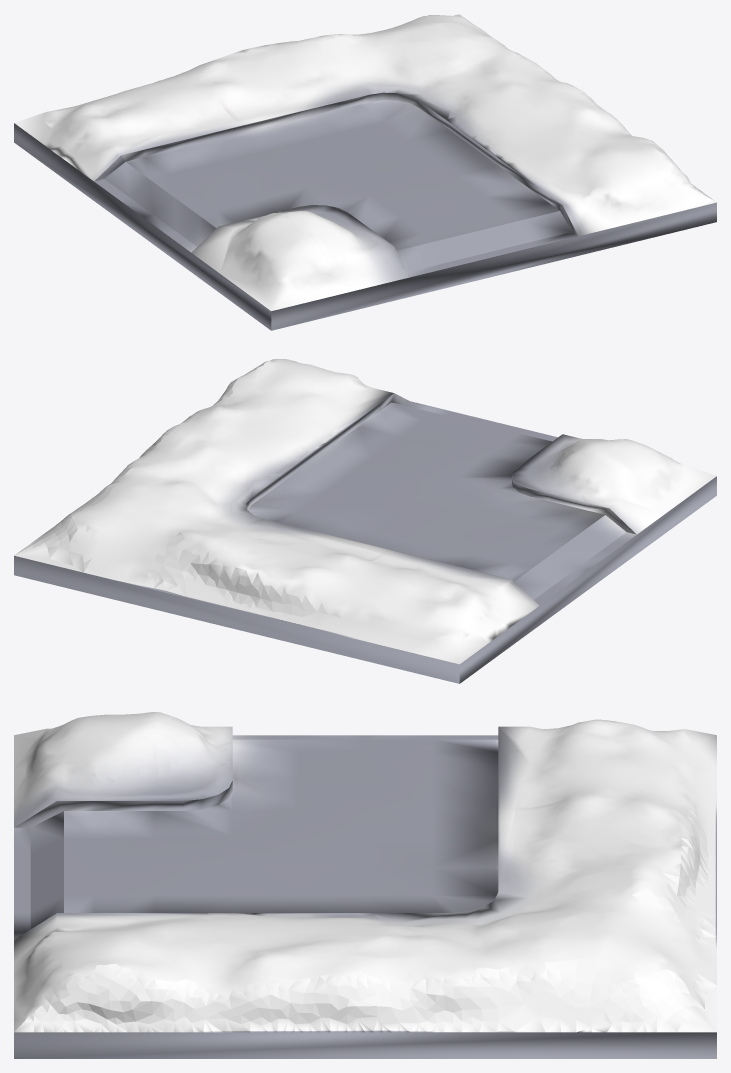
File: CurveBlock.fbx
The picture shows the model from 3 angles, top to bottom: view 1: azimuth 30°, elevation 25°; view 2: azimuth 150°, elevation 25°; view 3: azimuth 270°, elevation 25°; orthographic projection. The views are drawn at different scales.
Parts seen in each view (by area): view 1: CurveBlock; view 2: CurveBlock; view 3: CurveBlock.
Part boxes in pixels (x1=…): CurveBlock: x1=14, y1=14, x2=716, y2=330; CurveBlock: x1=14, y1=359, x2=716, y2=683; CurveBlock: x1=14, y1=712, x2=716, y2=1058.
Size of the model in its own units: 295 by 40.32 by 295.
